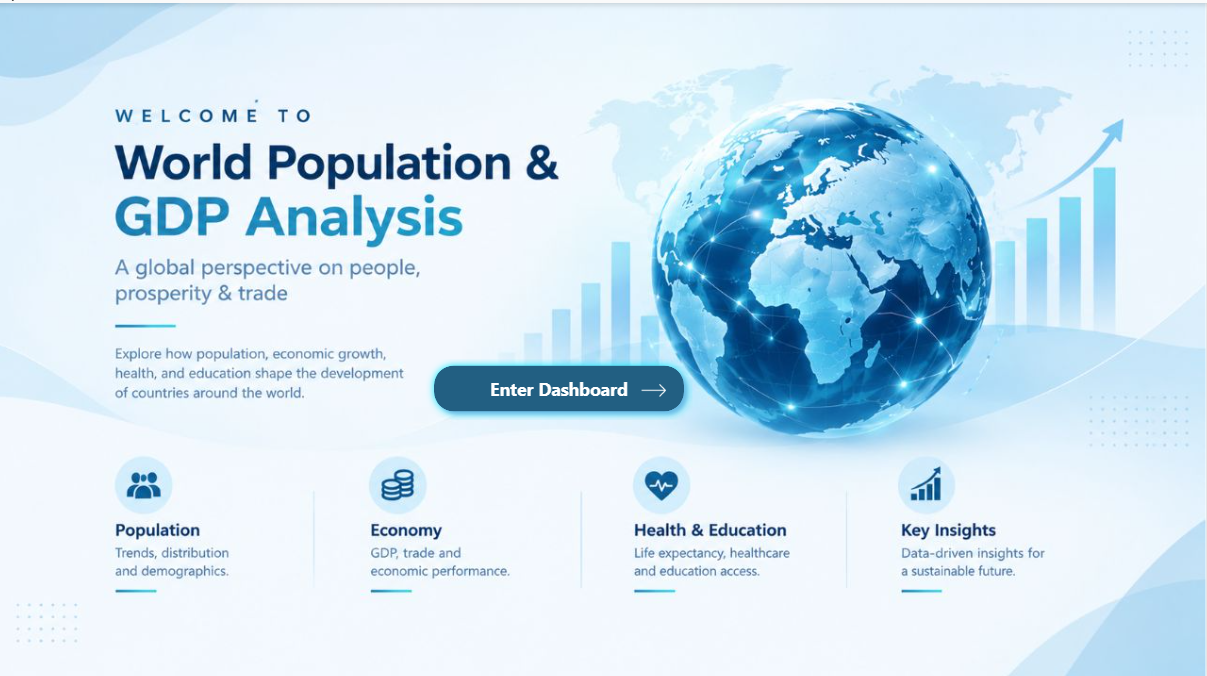

What the dashboard file says about the page in this screenshot:
{"tool":"powerbi","page":{"name":"Home","canvas":[1280,720],"ordinal":0},"visuals":[{"type":"actionButton","box":[453.3,375.4,283.1,66.8],"z":0},{"type":"image","box":[683.1,394.6,26.2,32.3],"z":1000}]}

Visuals, with their boxes in screenshot pixels (x1, y1, x2, y2), scaled from the page's 1280x720 canvas onto the 1207x676 screenshot:
actionButton: 427/352/694/415
image: 644/370/669/401
